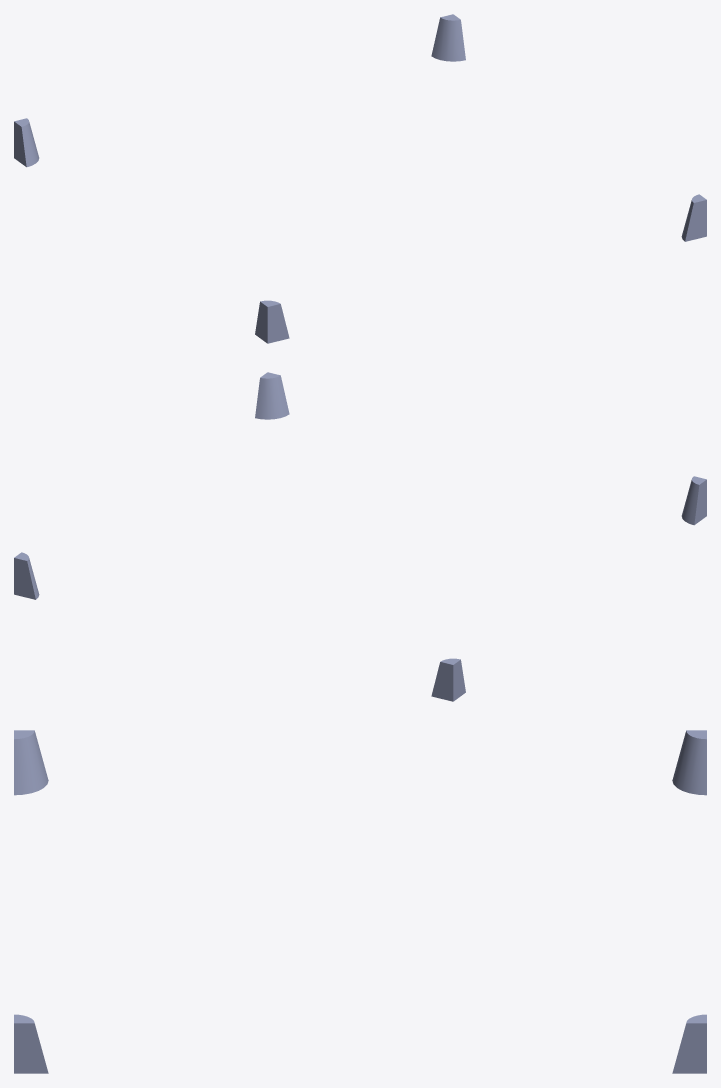
The model's file is road-crossroad-barrier.glb.
3 renders of one model, top to bottom at view 1: azimuth 30°, elevation 25°; view 2: azimuth 150°, elevation 25°; view 3: azimuth 270°, elevation 25°, orthographic. The views are drawn at different scales.
Parts seen in each view (by area): view 1: road-crossroad-barrier; view 2: road-crossroad-barrier; view 3: road-crossroad-barrier.
Boxes of the visible parts, box(x1,y1,x2,y2) form: road-crossroad-barrier: box(14, 14, 706, 343); road-crossroad-barrier: box(14, 372, 706, 701); road-crossroad-barrier: box(14, 730, 706, 1073).
Size of the model in its own units: 1 by 0.08 by 1.
1 material, 1 textured.
